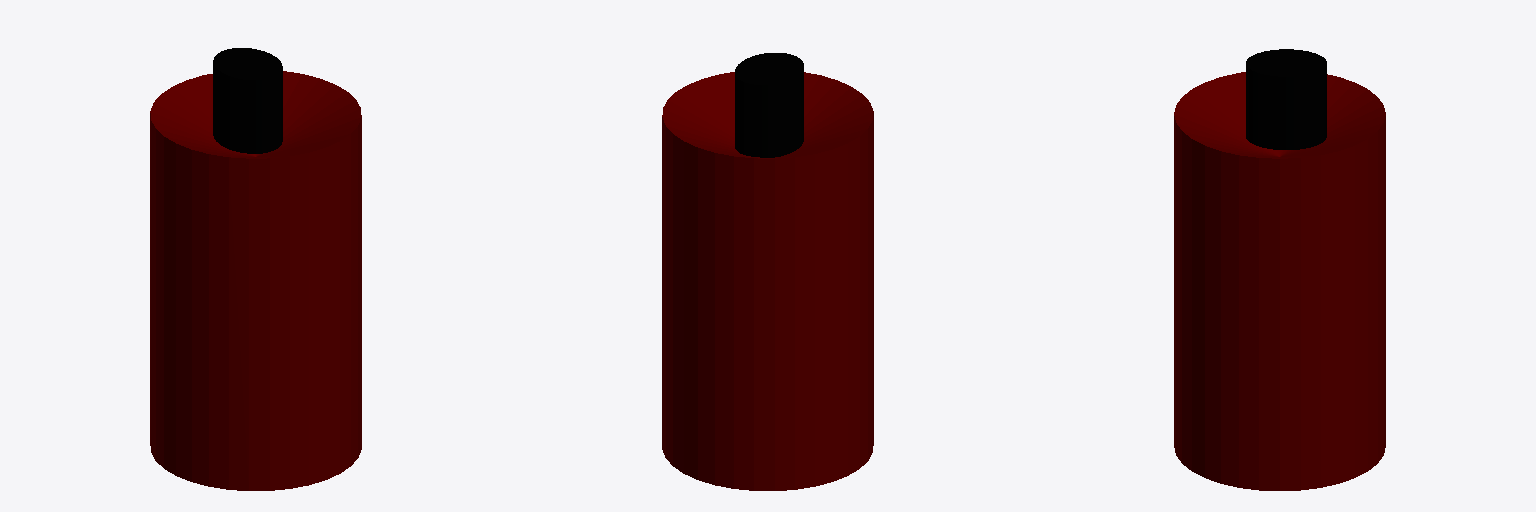
Rendered from battery.obj.
3 views of the same model, side by side, from view 1: azimuth 30°, elevation 25°; view 2: azimuth 150°, elevation 25°; view 3: azimuth 270°, elevation 25° (orthographic).
Parts seen in each view (by area): view 1: Mesh_Cylinder, Mesh.001_Cylinder.001; view 2: Mesh_Cylinder, Mesh.001_Cylinder.001; view 3: Mesh_Cylinder, Mesh.001_Cylinder.001.
Part boxes in pixels (x1,y1,x2,y2): Mesh_Cylinder: (150, 71, 361, 490); Mesh.001_Cylinder.001: (213, 48, 282, 153); Mesh_Cylinder: (662, 72, 873, 490); Mesh.001_Cylinder.001: (735, 53, 803, 157); Mesh_Cylinder: (1174, 72, 1385, 490); Mesh.001_Cylinder.001: (1246, 49, 1326, 149).
Size of the model in its own units: 0.3804 by 0.7556 by 0.3804.